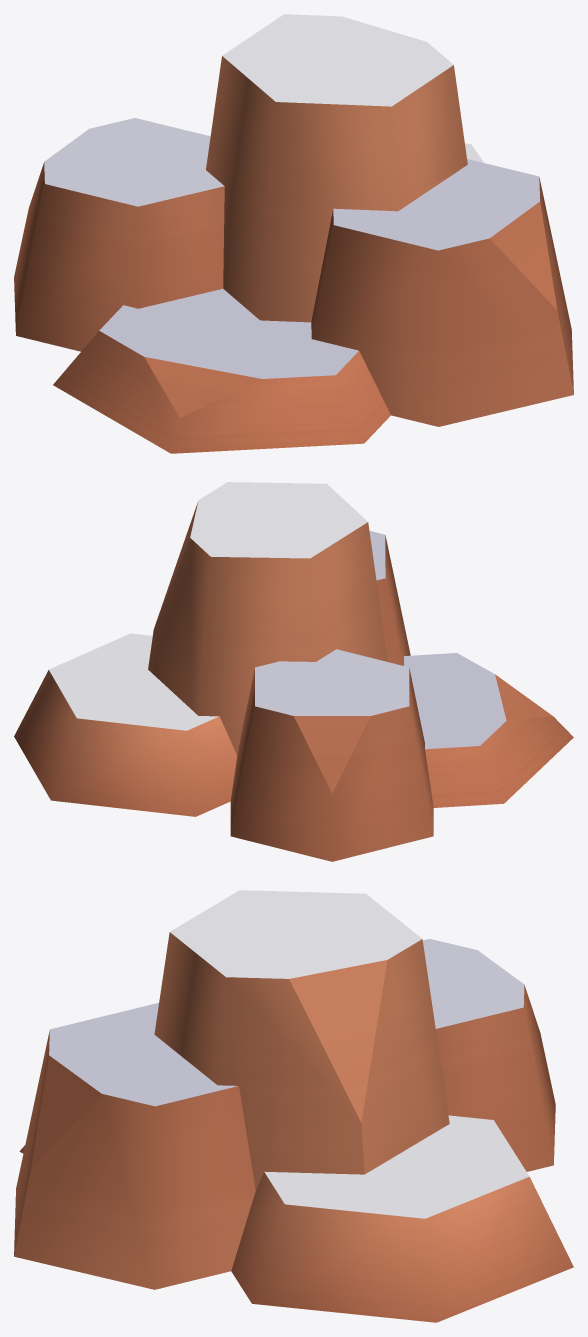
Rendered from snow-detail-dirt-large.fbx.
The picture shows the model from 3 angles, top to bottom: view 1: azimuth 30°, elevation 25°; view 2: azimuth 150°, elevation 25°; view 3: azimuth 270°, elevation 25°; orthographic projection. The views are drawn at different scales.
Visible parts, largest first — view 1: snow-detail-dirt-large; view 2: snow-detail-dirt-large; view 3: snow-detail-dirt-large.
Boxes of the visible parts, box(x1,y1,x2,y2) form: snow-detail-dirt-large: box(14, 14, 573, 453); snow-detail-dirt-large: box(14, 482, 573, 861); snow-detail-dirt-large: box(14, 890, 573, 1322).
Size of the model in its own units: 85.31 by 41.45 by 77.85.
